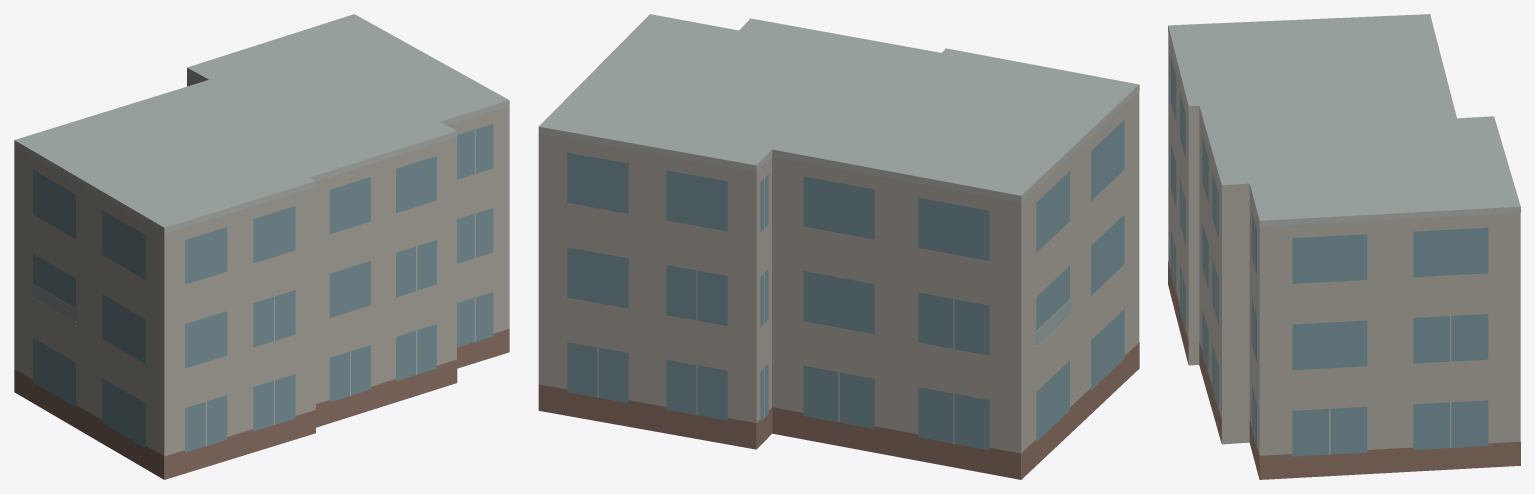
Rendered from survey-upis-32874518.glb.
3 renders of one model, left to right at view 1: azimuth 30°, elevation 25°; view 2: azimuth 150°, elevation 25°; view 3: azimuth 270°, elevation 25°, orthographic. The views are drawn at different scales.
Visible parts, largest first — view 1: survey-upis-32874518.tmp; view 2: survey-upis-32874518.tmp; view 3: survey-upis-32874518.tmp.
Part boxes in pixels (x1,y1,x2,y2): survey-upis-32874518.tmp: (14, 14, 509, 479); survey-upis-32874518.tmp: (538, 14, 1139, 479); survey-upis-32874518.tmp: (1168, 14, 1520, 479).
Size of the model in its own units: 17.64 by 10.3 by 12.72.
